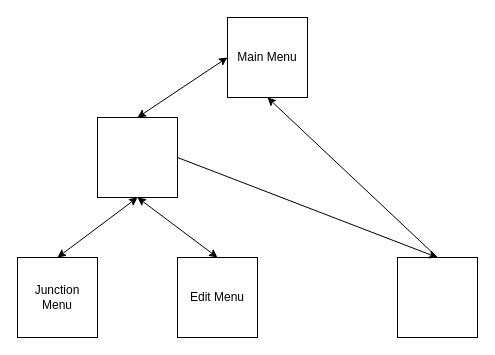
The diagram is 495 pixels wide and 355 high, and some of its shapes have lost their labels. Each missing label, with the box of its shape:
Design Phase: (96, 116, 178, 198)
Simulation: (396, 256, 478, 338)
